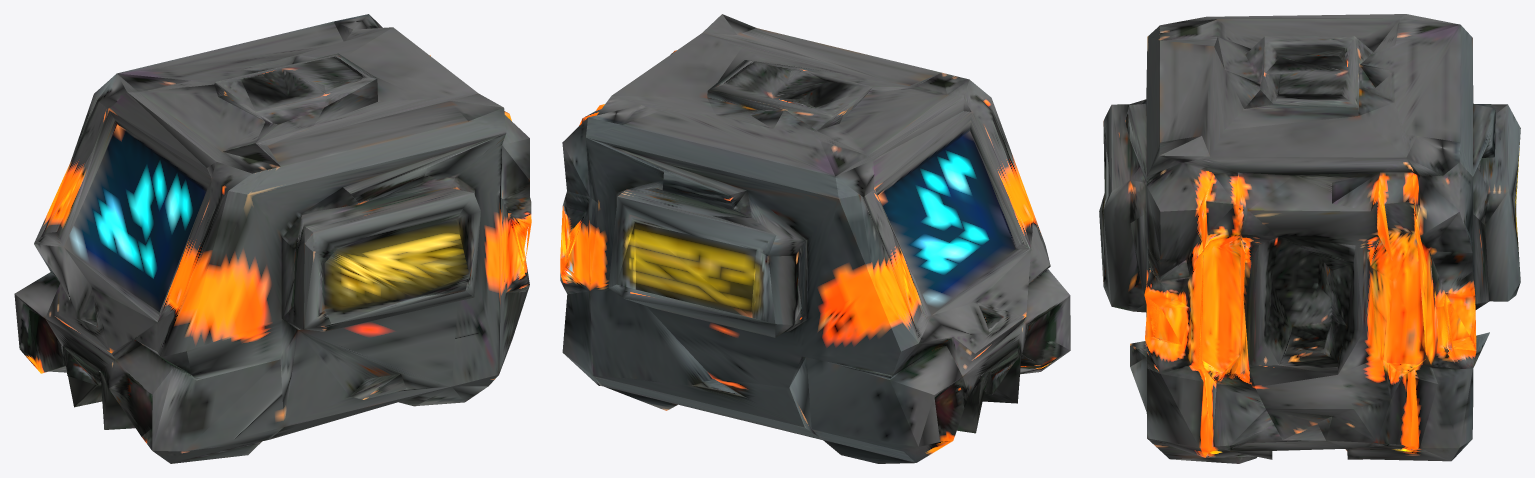
Rendered from obj_charge_v1_lod1.glb.
3 renders of one model, left to right at view 1: azimuth 30°, elevation 25°; view 2: azimuth 150°, elevation 25°; view 3: azimuth 270°, elevation 25°, orthographic. The views are drawn at different scales.
Bounding box in the file's own units: 0.9796 × 0.7293 × 0.8198.
1 material, 1 textured.
